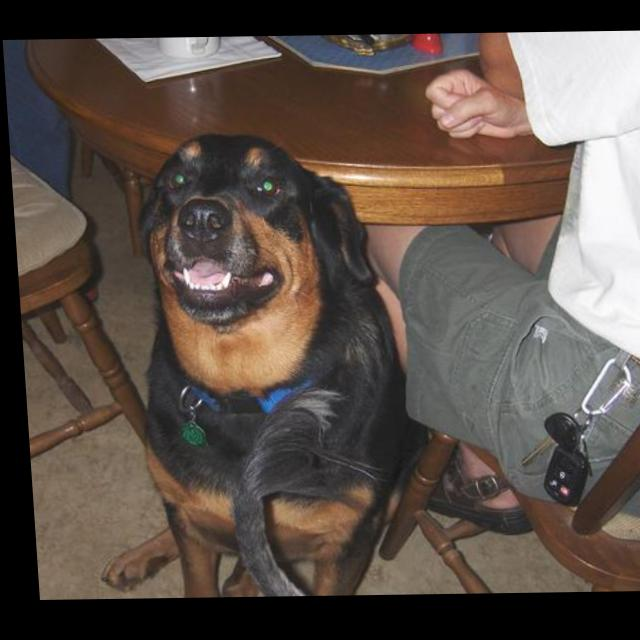person: (349, 34, 640, 541)
rottweiler: (70, 131, 432, 600)
